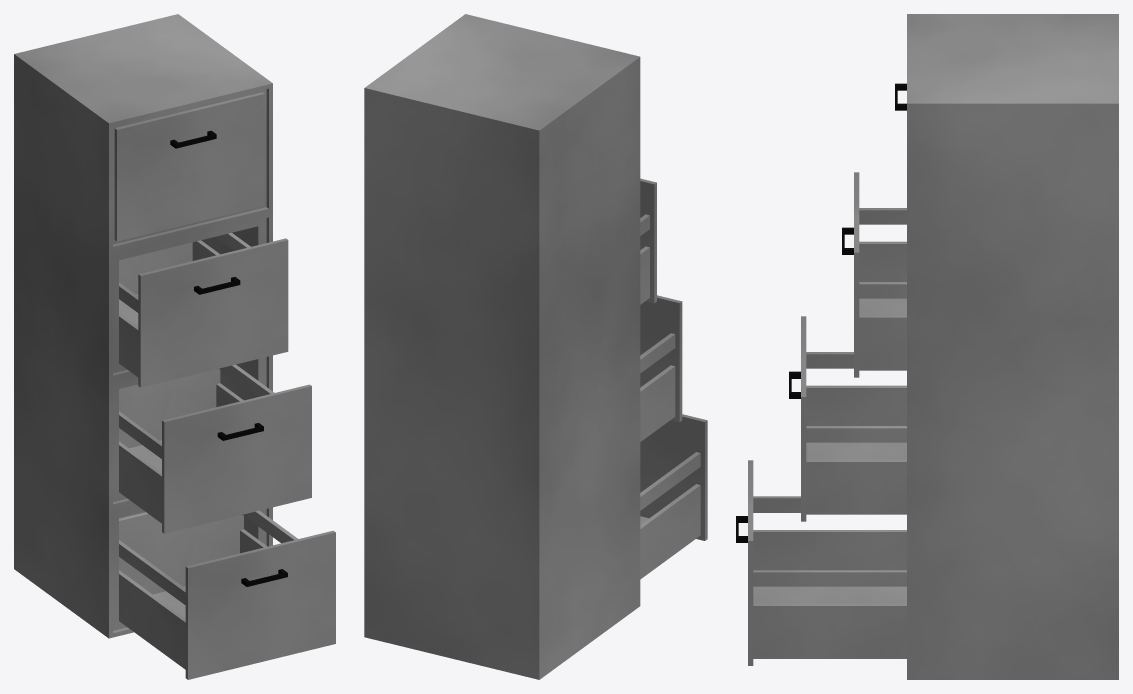
File: file_cabinet.fbx
3 renders of one model, left to right at view 1: azimuth 30°, elevation 25°; view 2: azimuth 150°, elevation 25°; view 3: azimuth 270°, elevation 25°, orthographic. The views are drawn at different scales.
Visible parts, largest first — view 1: FileCabinet; view 2: FileCabinet; view 3: FileCabinet.
Boxes of the visible parts, left/top/right/bottom form: FileCabinet: left=14, top=14, right=335, bottom=679; FileCabinet: left=364, top=14, right=707, bottom=679; FileCabinet: left=736, top=14, right=1118, bottom=679.
Size of the model in its own units: 40 by 120 by 72.25.
1 material, 1 textured.
